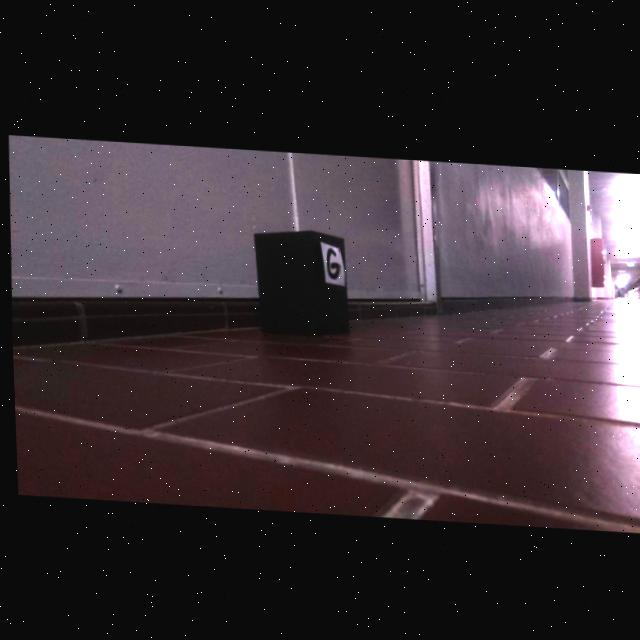G: (325, 245, 338, 276)
